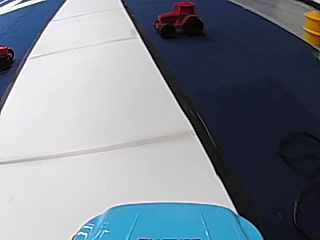tractor: (150, 1, 205, 39)
